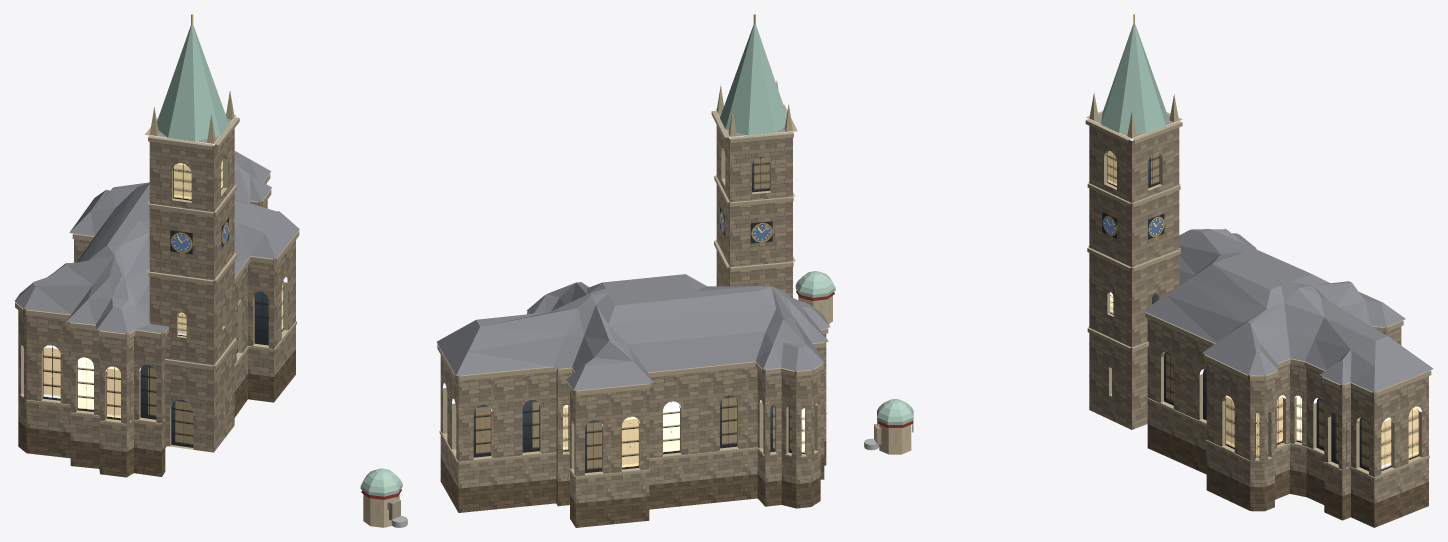
File: johanneskirche.glb
The picture shows the model from 3 angles, left to right: view 1: azimuth 30°, elevation 25°; view 2: azimuth 150°, elevation 25°; view 3: azimuth 270°, elevation 25°; orthographic projection. The views are drawn at different scales.
Parts seen in each view (by area): view 1: johanneskirche; view 2: johanneskirche; view 3: johanneskirche.
Part boxes in pixels (bbox=[...]): johanneskirche: bbox=[14, 14, 407, 527]; johanneskirche: bbox=[437, 14, 835, 527]; johanneskirche: bbox=[864, 14, 1433, 527].
Size of the model in its own units: 40.23 by 52.4 by 64.32.
4 materials, 4 textured.
